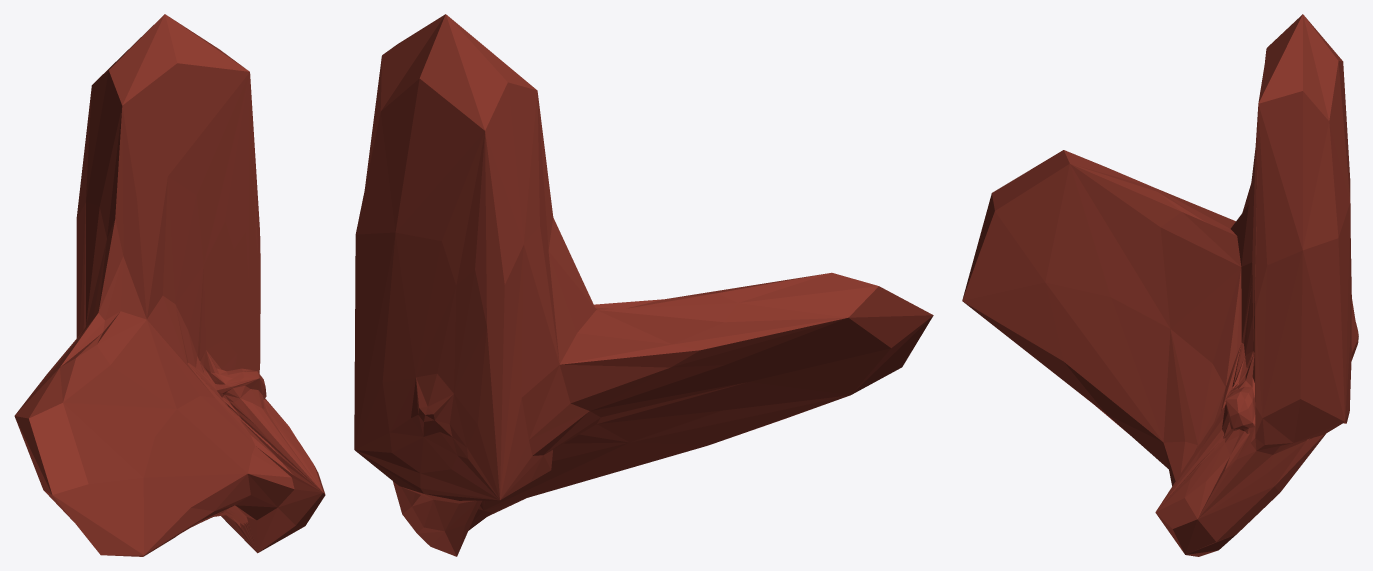
The picture shows the model from 3 angles, left to right: view 1: azimuth 30°, elevation 25°; view 2: azimuth 150°, elevation 25°; view 3: azimuth 270°, elevation 25°; orthographic projection. The views are drawn at different scales.
Visible parts, largest first — view 1: 763_Cube.3071; view 2: 763_Cube.3071; view 3: 763_Cube.3071.
Boxes of the visible parts, x1,y1,x2,y2 form: 763_Cube.3071: [14, 14, 325, 556]; 763_Cube.3071: [354, 14, 933, 556]; 763_Cube.3071: [962, 14, 1358, 556].
Bounding box in the file's own units: 11.72 × 15.63 × 10.76.
